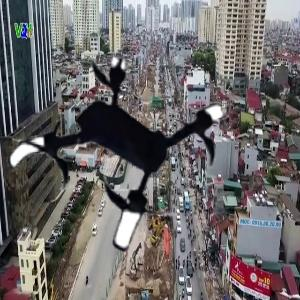drone: (5, 45, 232, 272)
